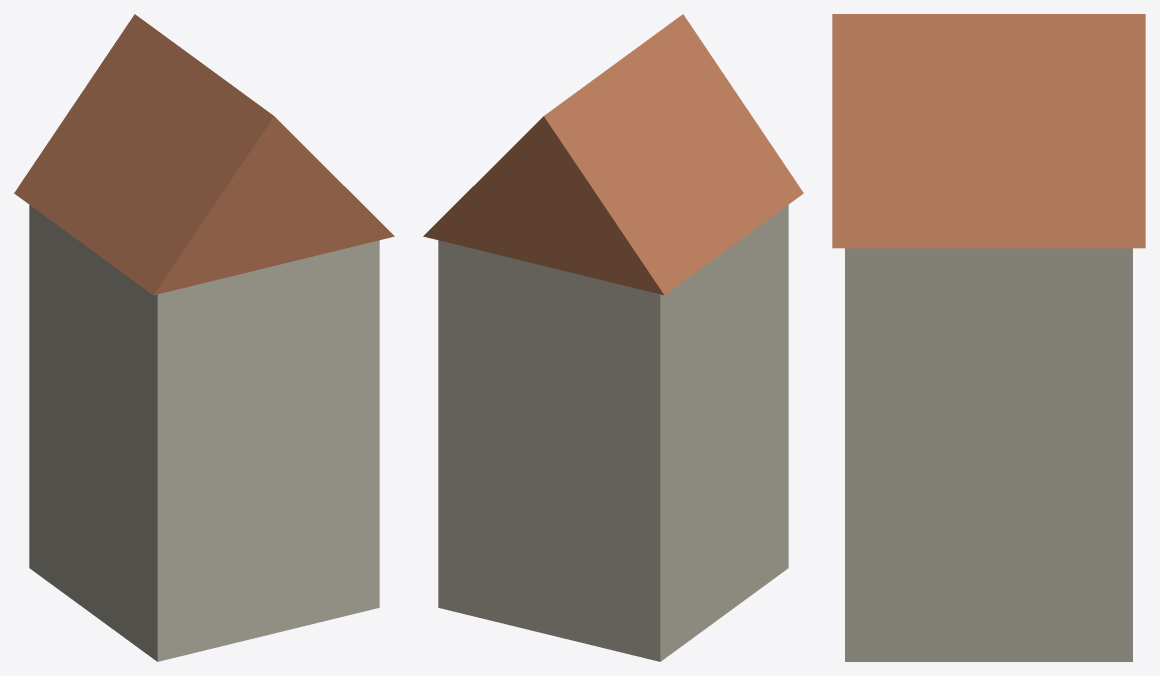
File: block_tower.glb
The picture shows the model from 3 angles, left to right: view 1: azimuth 30°, elevation 25°; view 2: azimuth 150°, elevation 25°; view 3: azimuth 270°, elevation 25°; orthographic projection. The views are drawn at different scales.
Parts seen in each view (by area): view 1: Body.007, Roof.007; view 2: Body.007, Roof.007; view 3: Body.007, Roof.007.
Part boxes in pixels (bbox=[...]): Body.007: bbox=[29, 205, 379, 661]; Roof.007: bbox=[14, 14, 394, 295]; Body.007: bbox=[438, 205, 788, 661]; Roof.007: bbox=[423, 14, 803, 295]; Body.007: bbox=[845, 248, 1132, 661]; Roof.007: bbox=[832, 14, 1145, 248].
Size of the model in its own units: 8.7 by 18 by 8.7.
